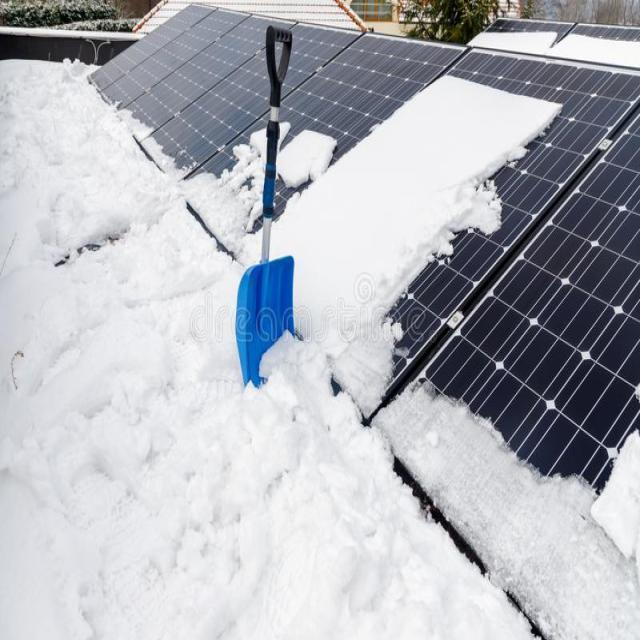Anomaly Solar Panel: (233, 47, 638, 418), (370, 102, 640, 640), (173, 31, 468, 257), (141, 23, 363, 183), (117, 15, 297, 142), (547, 23, 640, 69), (468, 18, 576, 55)
Snow: (270, 74, 560, 417), (376, 374, 640, 640), (173, 122, 265, 273), (112, 96, 194, 182), (469, 26, 640, 67), (279, 125, 336, 184)
